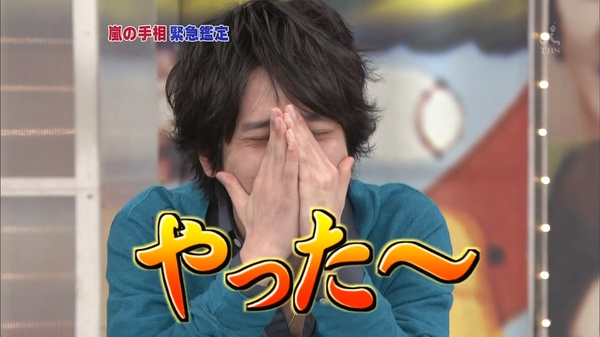face: (228, 89, 349, 234)
